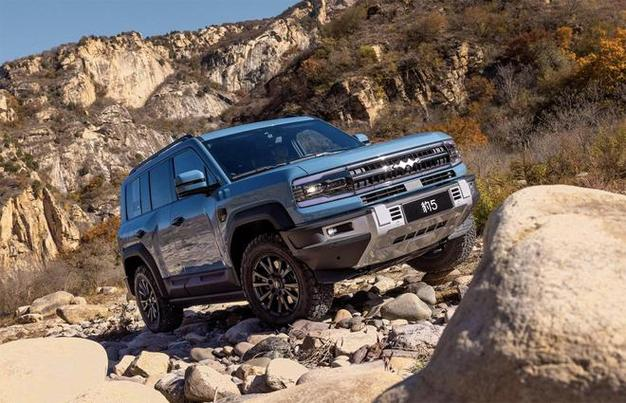汽车: (103, 115, 504, 332)
